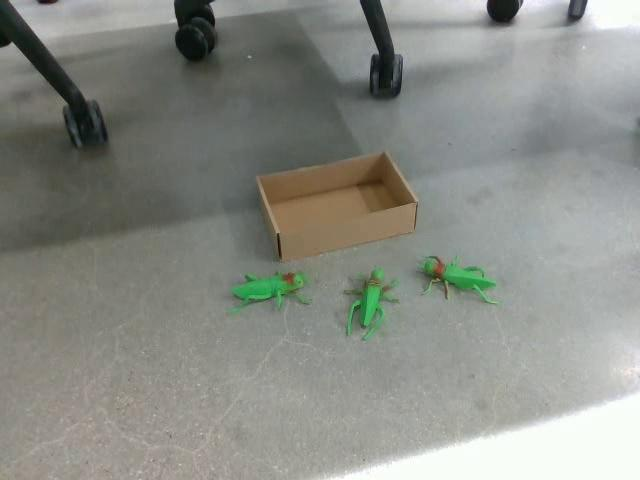box: (255, 149, 419, 263)
grasshopper: (342, 264, 399, 341), (415, 253, 499, 304), (227, 269, 311, 313)
